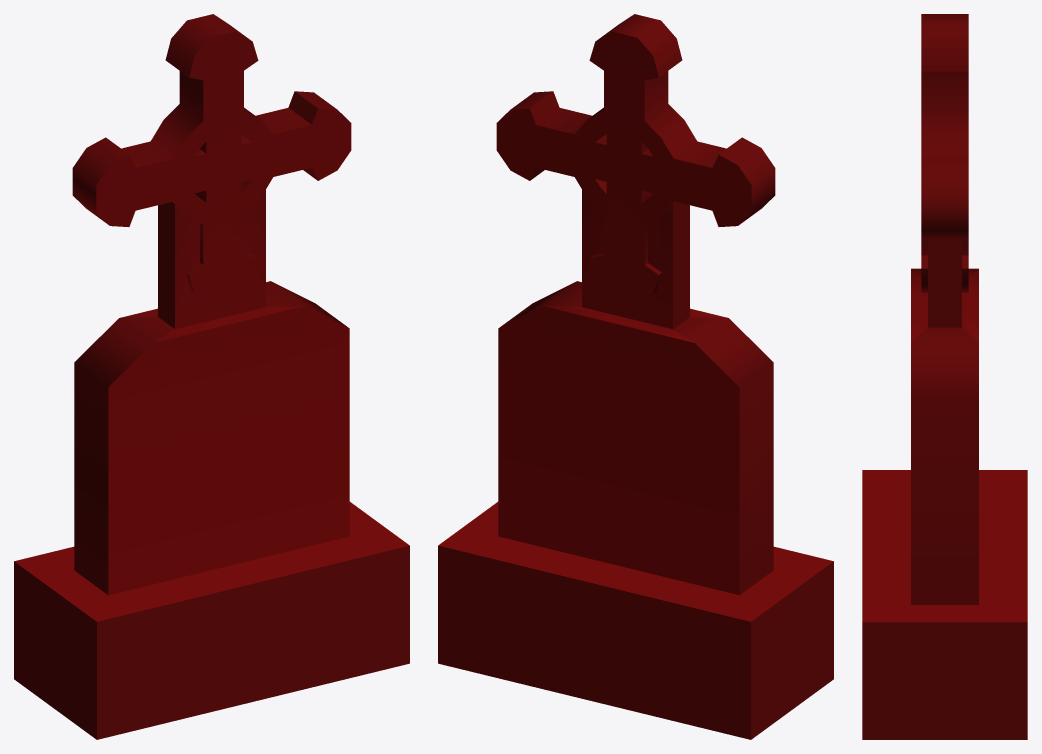
File: geology-carvedstone-gravestone_v2.fbx
3 renders of one model, left to right at view 1: azimuth 30°, elevation 25°; view 2: azimuth 150°, elevation 25°; view 3: azimuth 270°, elevation 25°, orthographic.
Parts seen in each view (by area): view 1: Gravestone_v2; view 2: Gravestone_v2; view 3: Gravestone_v2.
Boxes of the visible parts, box(x1,y1,x2,y2) form: Gravestone_v2: box(14, 14, 409, 739); Gravestone_v2: box(438, 14, 833, 739); Gravestone_v2: box(862, 14, 1027, 739).
Size of the model in its own units: 3.08 by 6.07 by 1.41.
